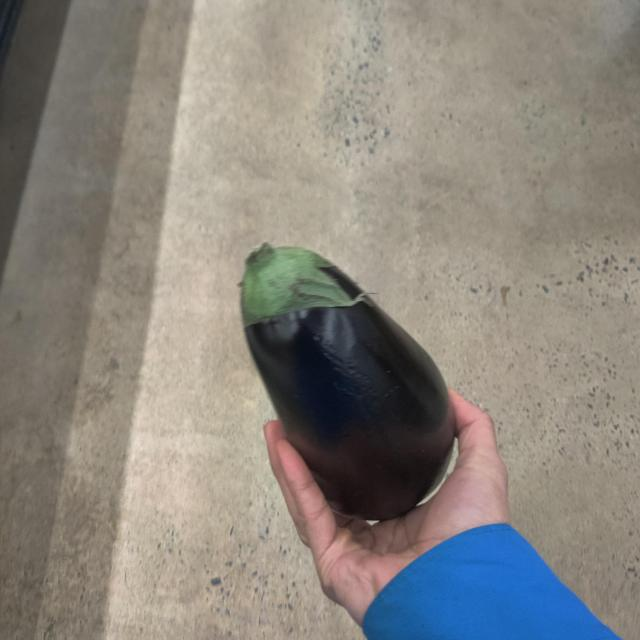Eggplant: (242, 245, 457, 522)
